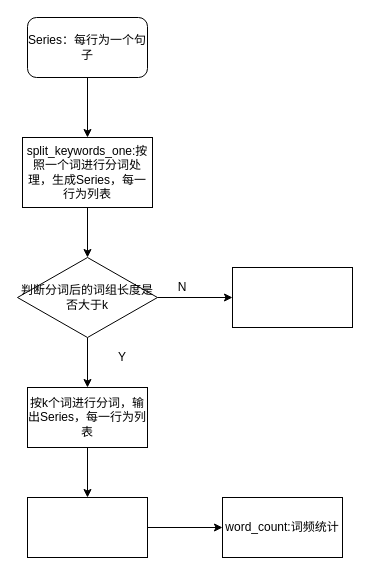
Image size: 370x575. Some labels were removed from this diagram. The centre of each missing label's shape, as x and y in pixels:
"Series中每一行元素迭代，生成DataFrame，每一行是k个单词组成的句子" goes at pixel 87 527.
"放弃分词操作，返回-1" goes at pixel 292 297.
